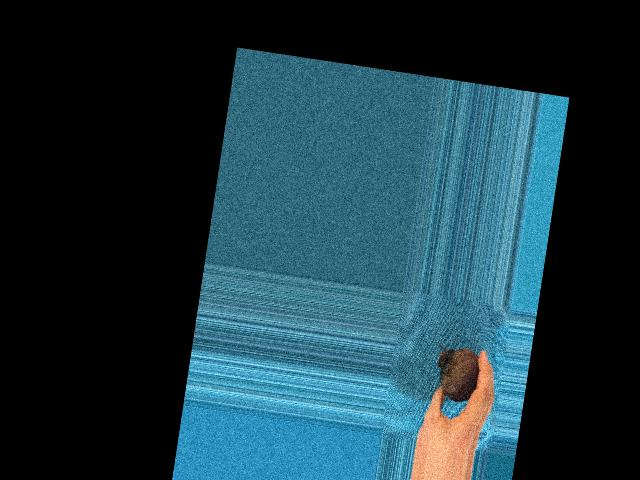beet: (431, 344, 481, 403)
